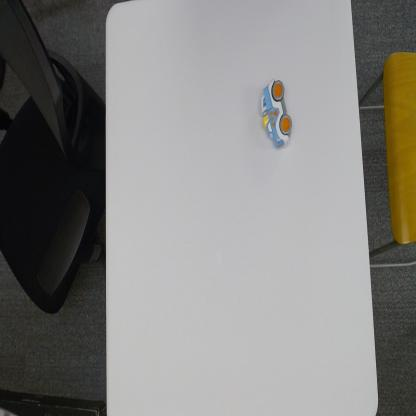Car: (259, 76, 295, 152)
